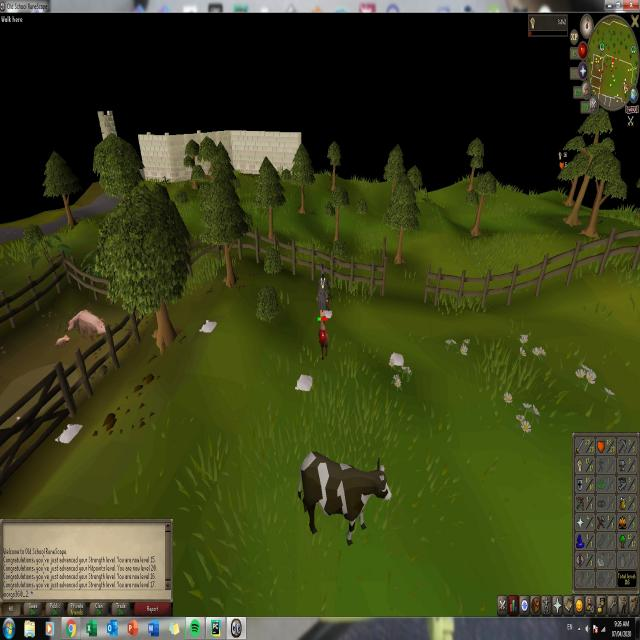cow: (297, 446, 392, 546), (317, 317, 330, 362)
player: (314, 264, 331, 322)
